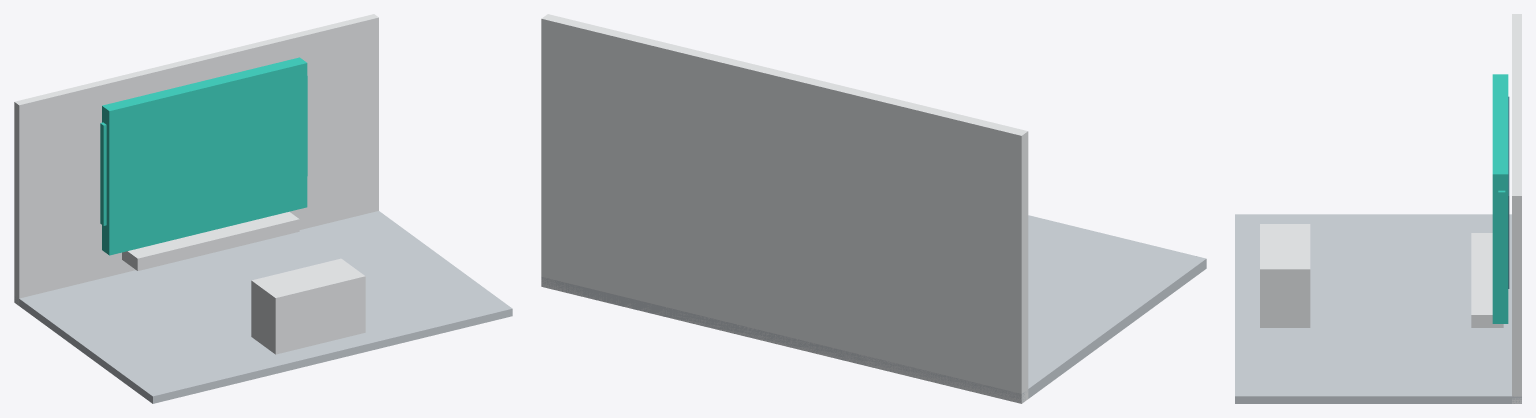
3 views of the same model, side by side, from view 1: azimuth 30°, elevation 25°; view 2: azimuth 150°, elevation 25°; view 3: azimuth 270°, elevation 25° (orthographic). The views are drawn at different scales.
Visible parts, largest first — view 1: Exhibition Booth Concept; view 2: Exhibition Booth Concept; view 3: Exhibition Booth Concept.
Part boxes in pixels (x1=…): Exhibition Booth Concept: x1=14, y1=14, x2=512, y2=403; Exhibition Booth Concept: x1=541, y1=14, x2=1206, y2=403; Exhibition Booth Concept: x1=1235, y1=14, x2=1521, y2=403.
Bounding box in the file's own units: 6 × 3.2 × 4.
